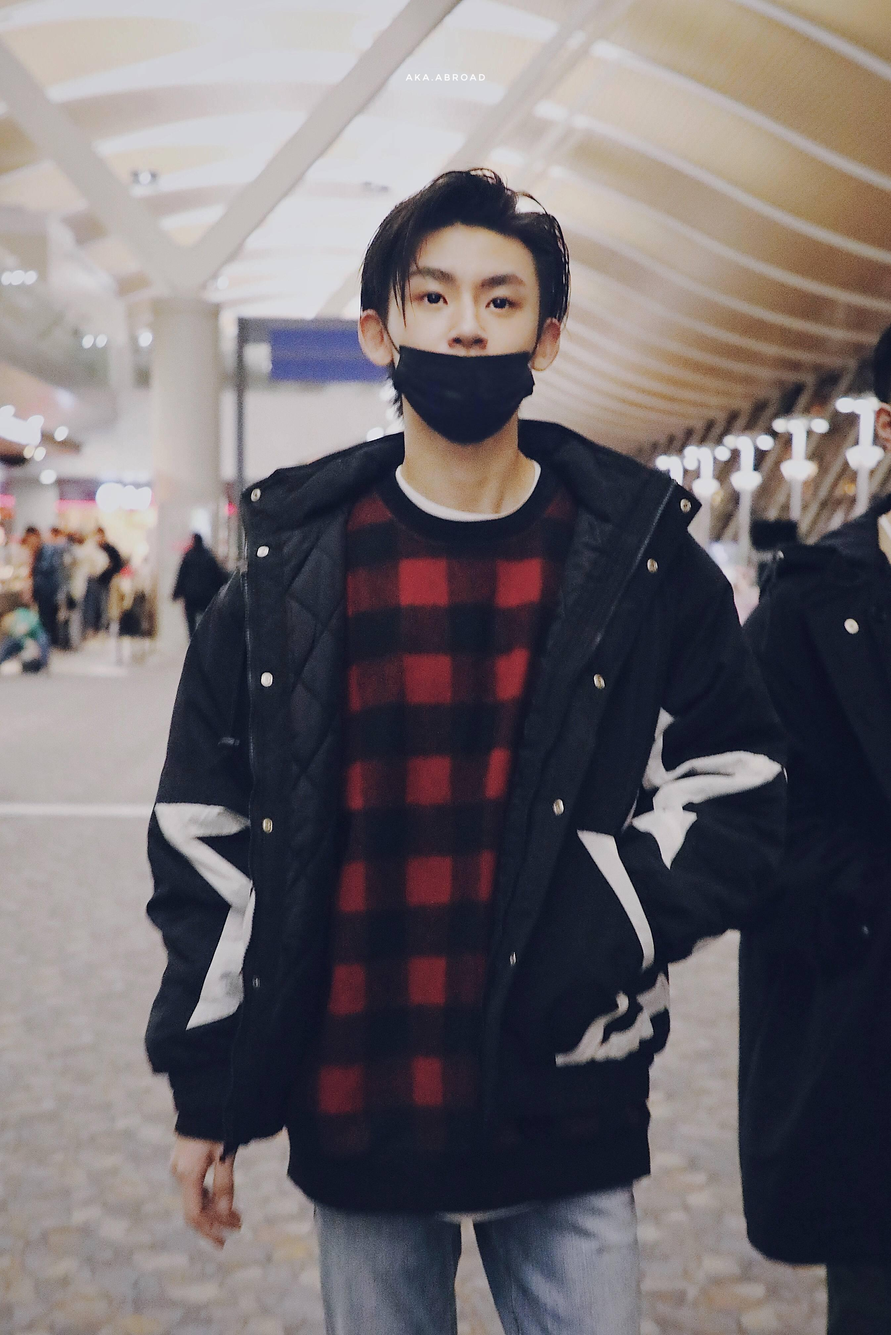WRONG: (390, 248, 539, 440)
